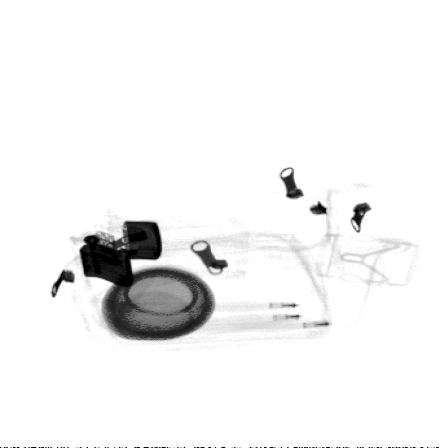Lighter: (79, 221, 163, 288)
